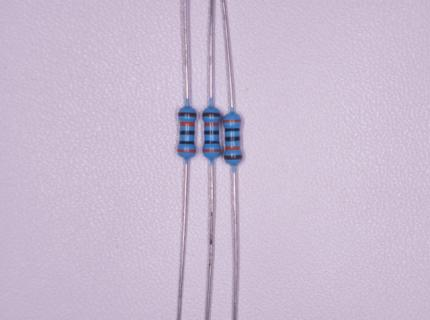Black band: (225, 137, 240, 141), (180, 131, 194, 135), (205, 131, 219, 134), (180, 141, 194, 144), (225, 128, 239, 131), (205, 141, 219, 143)
Brown band: (224, 155, 242, 159), (179, 113, 196, 117), (203, 113, 220, 117)
Orange band: (223, 119, 241, 123), (177, 149, 195, 153), (180, 122, 194, 126), (227, 146, 241, 150), (205, 122, 218, 126), (204, 149, 220, 152)
